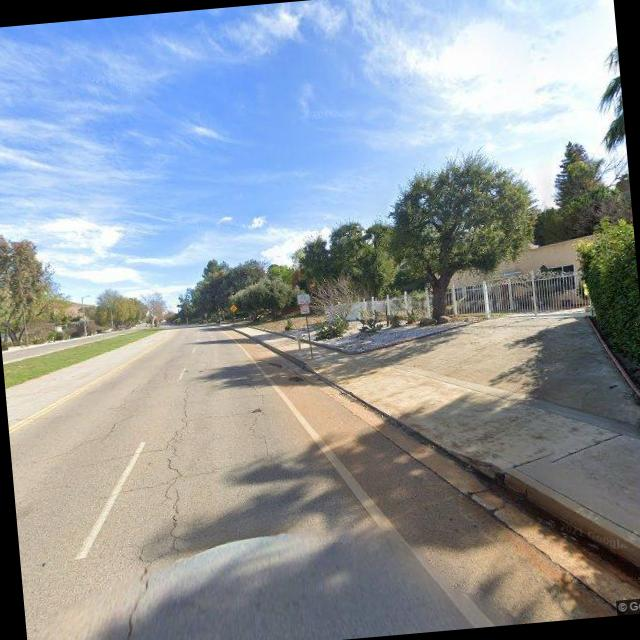crack: (67, 383, 232, 640), (144, 373, 206, 554), (185, 404, 252, 423)
